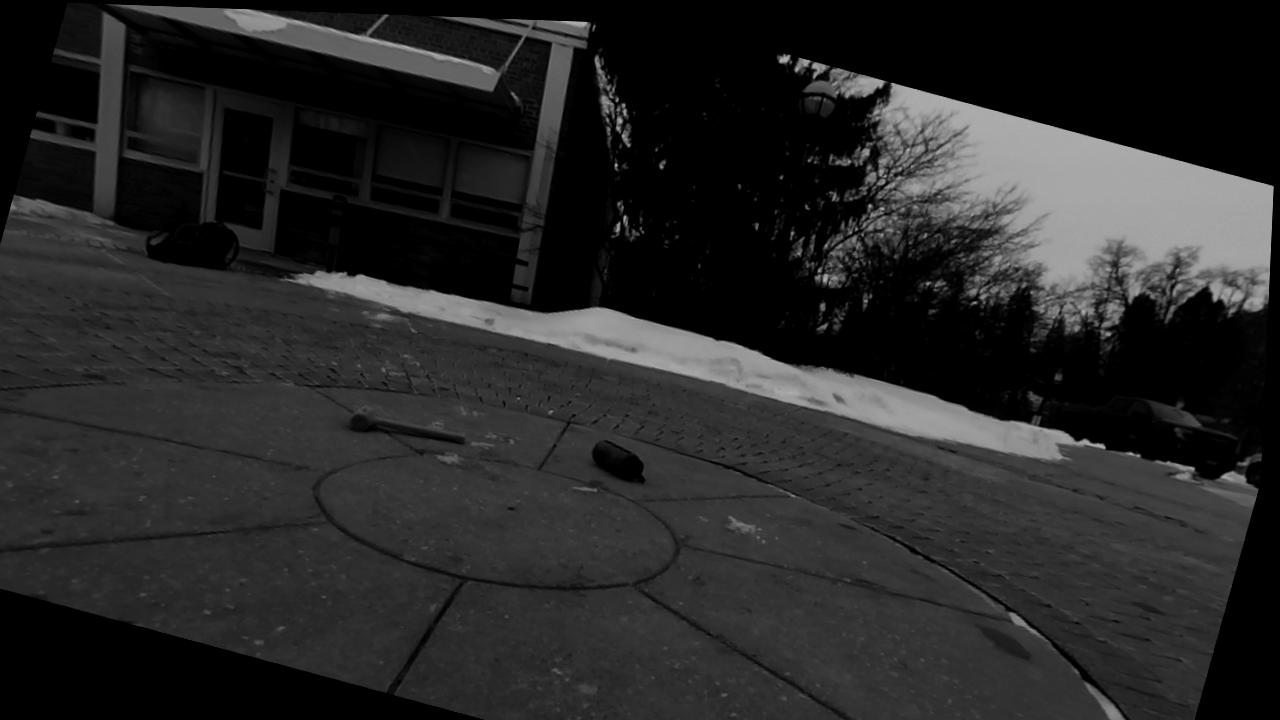bottle: (591, 440, 643, 481)
mallet: (349, 405, 466, 443)
